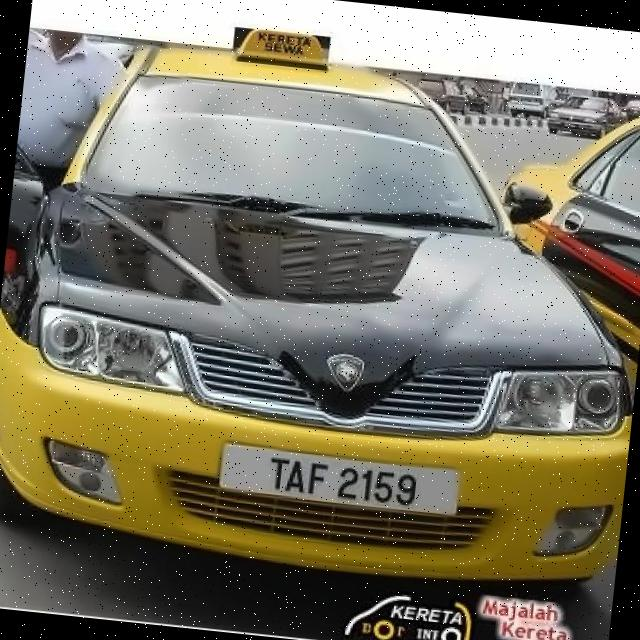License_Plate: (218, 440, 462, 520)
car: (1, 18, 640, 600)
